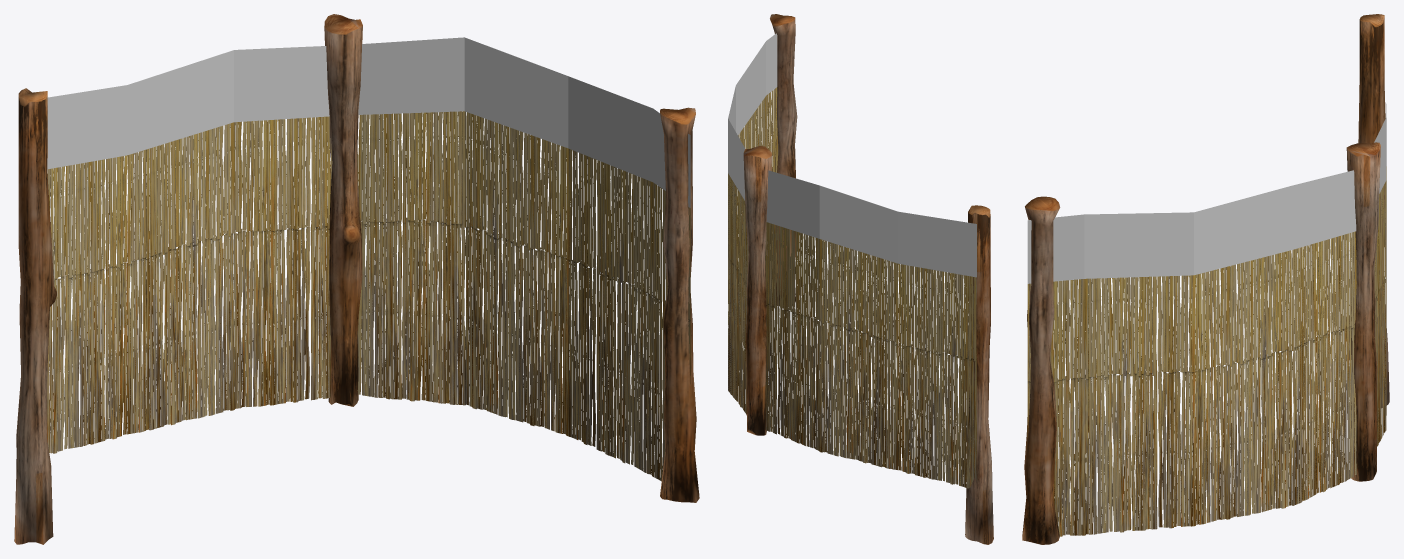
The model's file is bambooFence4.fbx.
3 views of the same model, side by side, from view 1: azimuth 30°, elevation 25°; view 2: azimuth 150°, elevation 25°; view 3: azimuth 270°, elevation 25° (orthographic). The views are drawn at different scales.
Parts seen in each view (by area): view 1: bambooFence4; view 2: bambooFence4; view 3: bambooFence4.
Part boxes in pixels (x1,y1,x2,y2): bambooFence4: (14,14,699,544); bambooFence4: (728,14,993,544); bambooFence4: (1022,14,1389,544).
Size of the model in its own units: 356 by 317 by 266.
